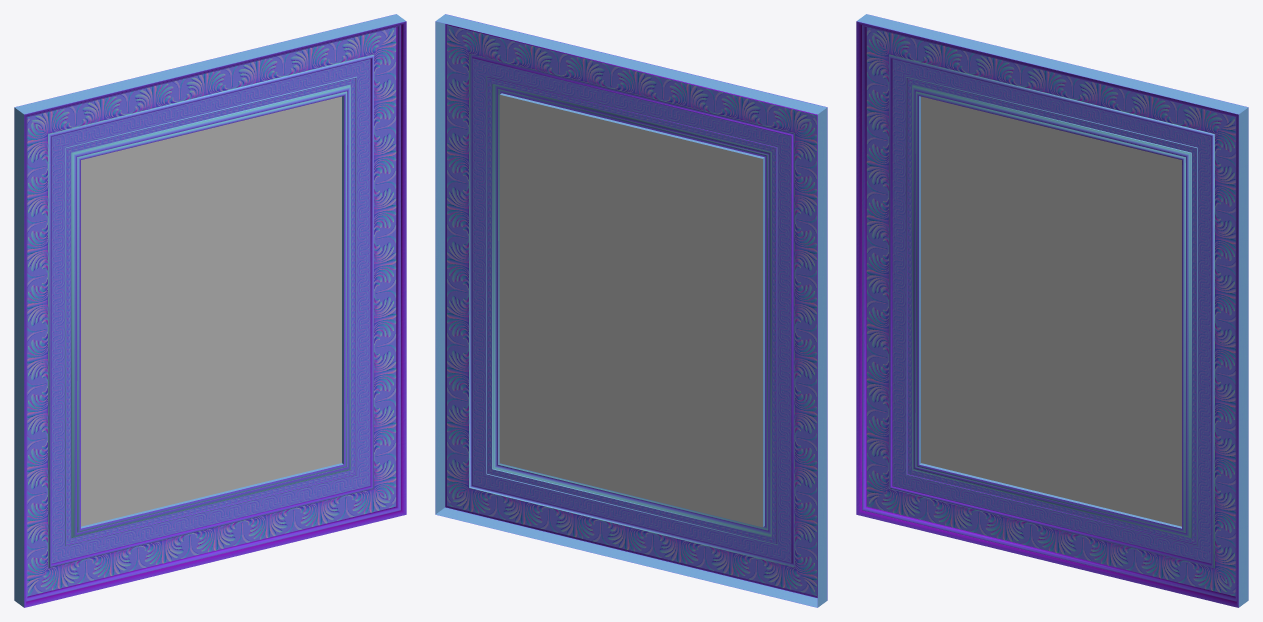
3 views of the same model, side by side, from view 1: azimuth 30°, elevation 25°; view 2: azimuth 150°, elevation 25°; view 3: azimuth 330°, elevation 25° (orthographic).
Parts seen in each view (by area): view 1: _14_24_frame, _14_24; view 2: _14_24_frame, _14_24; view 3: _14_24_frame, _14_24.
Boxes of the visible parts, box(x1,y1,x2,y2) form: _14_24_frame: box(14, 14, 406, 607); _14_24: box(81, 96, 341, 526); _14_24_frame: box(435, 14, 827, 607); _14_24: box(499, 95, 762, 527); _14_24_frame: box(856, 14, 1248, 607); _14_24: box(921, 96, 1181, 526).
Size of the model in its own units: 90.09 by 111 by 4.13.
